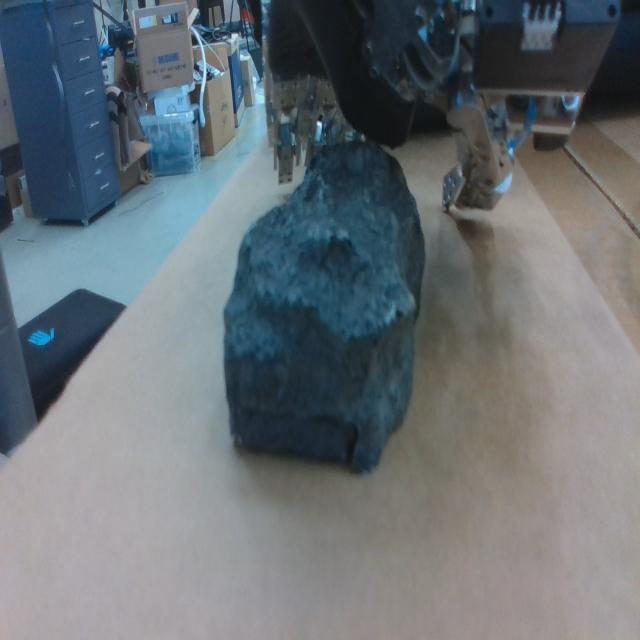stone: (222, 138, 429, 480)
